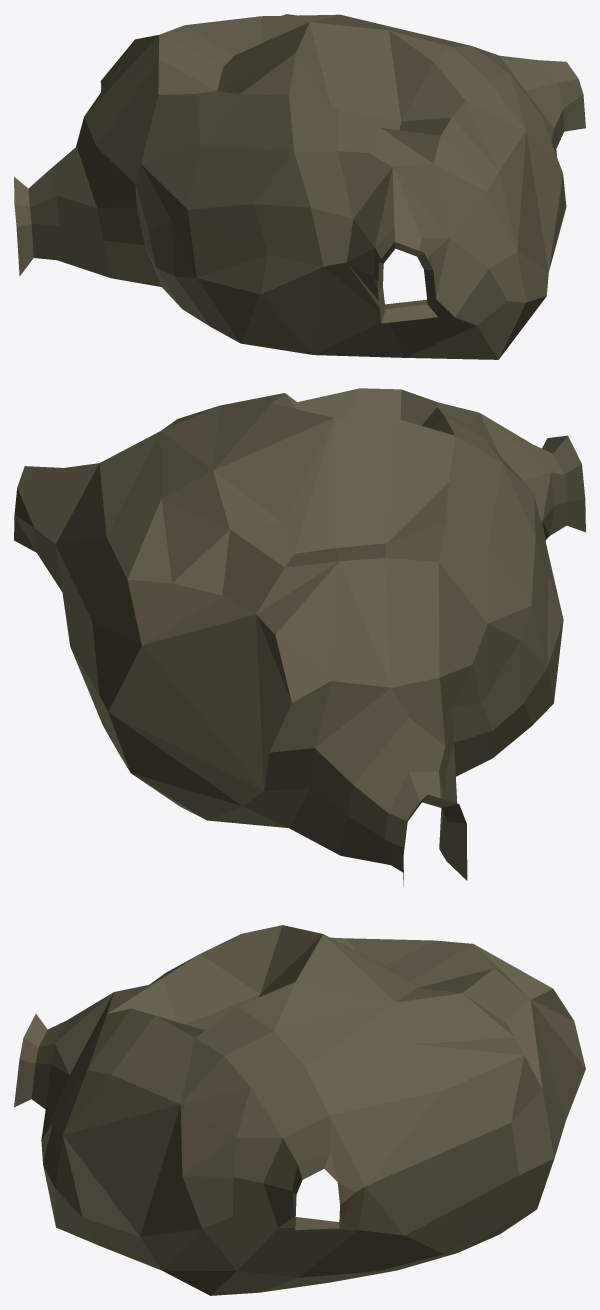
The model's file is Dome-3exits-03.fbx.
3 views of the same model, one above another, from view 1: azimuth 30°, elevation 25°; view 2: azimuth 150°, elevation 25°; view 3: azimuth 270°, elevation 25° (orthographic). The views are drawn at different scales.
Visible parts, largest first — view 1: Dome-3exits-03; view 2: Dome-3exits-03; view 3: Dome-3exits-03.
Boxes of the visible parts, x1,y1,x2,y2 form: Dome-3exits-03: [14, 14, 585, 359]; Dome-3exits-03: [14, 388, 585, 886]; Dome-3exits-03: [14, 925, 585, 1295].
Size of the model in its own units: 2309 by 2225 by 1257.
